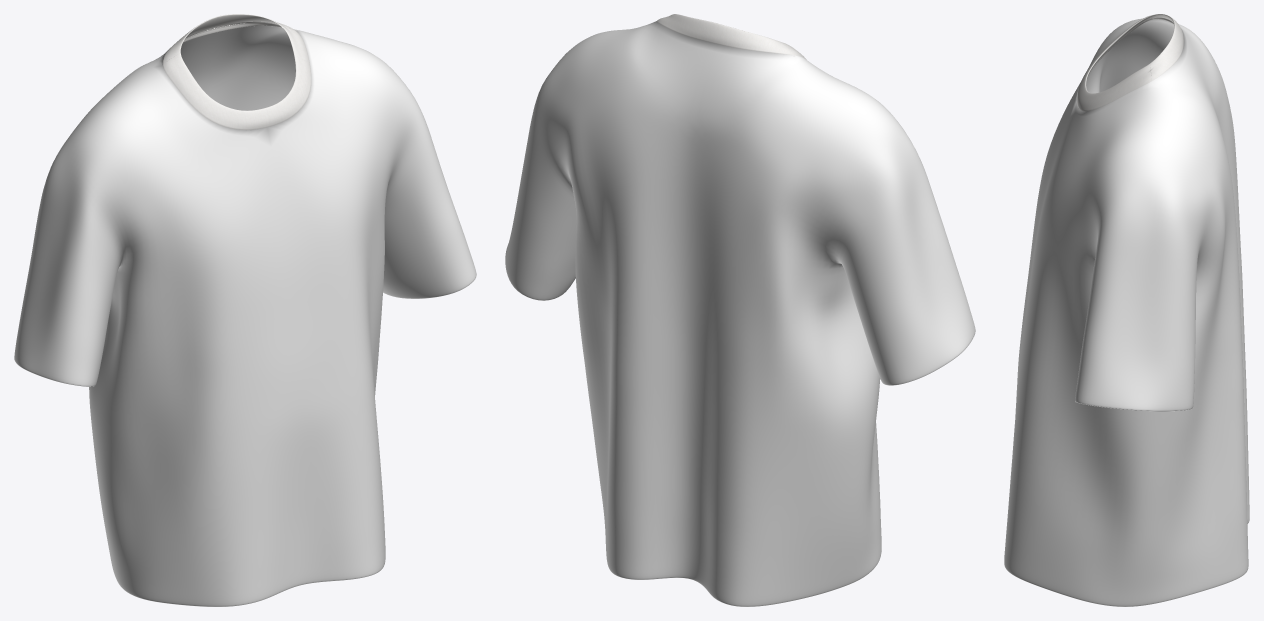
3 renders of one model, left to right at view 1: azimuth 30°, elevation 25°; view 2: azimuth 150°, elevation 25°; view 3: azimuth 270°, elevation 25°, orthographic. The views are drawn at different scales.
Visible parts, largest first — view 1: T-Shirt; view 2: T-Shirt; view 3: T-Shirt.
Part boxes in pixels (x1=…): T-Shirt: x1=14, y1=14, x2=476, y2=606; T-Shirt: x1=505, y1=14, x2=975, y2=606; T-Shirt: x1=1004, y1=14, x2=1249, y2=606.
Size of the model in its own units: 0.9123 by 1.06 by 0.4489.
Materials: 1 (1 with a texture image).
